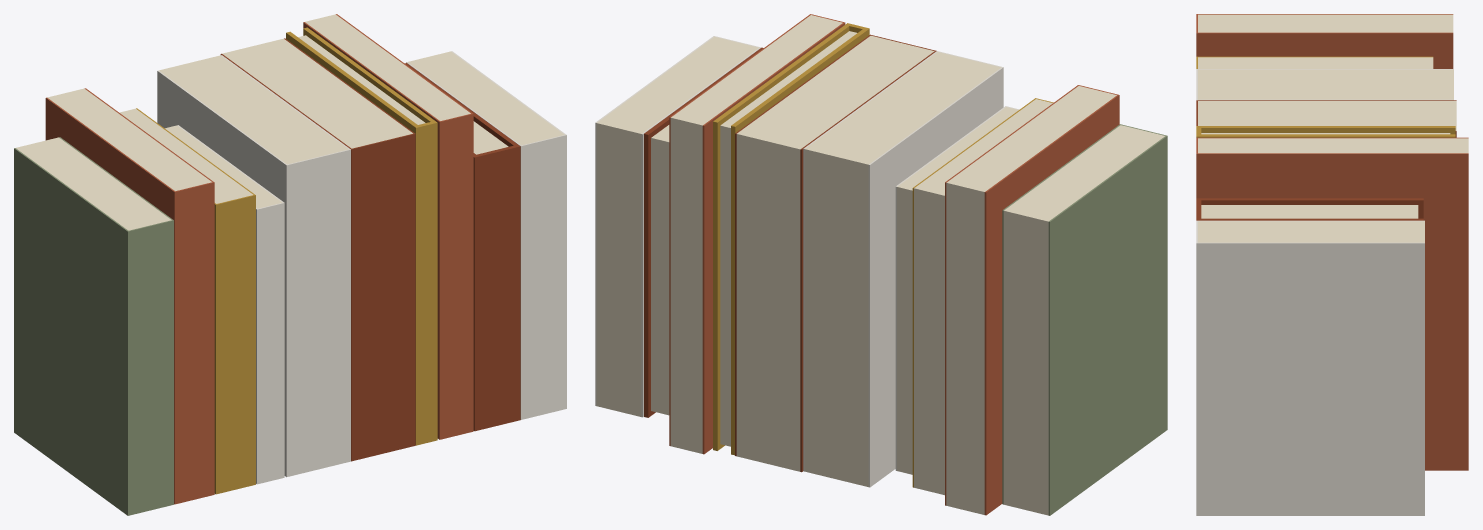
3 views of the same model, side by side, from view 1: azimuth 30°, elevation 25°; view 2: azimuth 150°, elevation 25°; view 3: azimuth 270°, elevation 25° (orthographic). The views are drawn at different scales.
Parts seen in each view (by area): view 1: book, book.004, book.005, book.001, book.009, book.007, book.002, book.008, book.006, book.003; view 2: book, book.004, book.005, book.001, book.007, book.009, book.002, book.006, book.008, book.003; view 3: book.009, book.007, book.001, book.004, book.005, book.008, book.006, book.002.
Boxes of the visible parts, x1,y1,x2,y2 form: book: (14,137,173,515); book.004: (157,55,350,477); book.005: (220,38,415,461); book.001: (45,88,214,504); book.009: (406,51,566,419); book.007: (303,14,473,439); book.002: (119,108,255,494); book.008: (405,63,520,431); book.006: (286,27,437,445); book.003: (165,125,284,484); book: (1002,124,1167,515); book.004: (803,51,1003,487); book.005: (735,34,936,472); book.001: (945,85,1119,515); book.007: (669,14,845,454); book.009: (595,36,761,417); book.002: (912,98,1053,495); book.006: (713,23,869,455); book.008: (644,47,763,417); book.003: (895,106,1019,474); book.009: (1196,220,1424,515); book.007: (1196,137,1468,470); book.001: (1196,14,1453,68); book.004: (1196,69,1453,100); book.005: (1196,100,1456,137); book.008: (1196,198,1423,220); book.006: (1196,126,1455,137); book.002: (1196,56,1433,68).
Bounding box in the file's own units: 0.2857 × 0.1976 × 0.1539.
